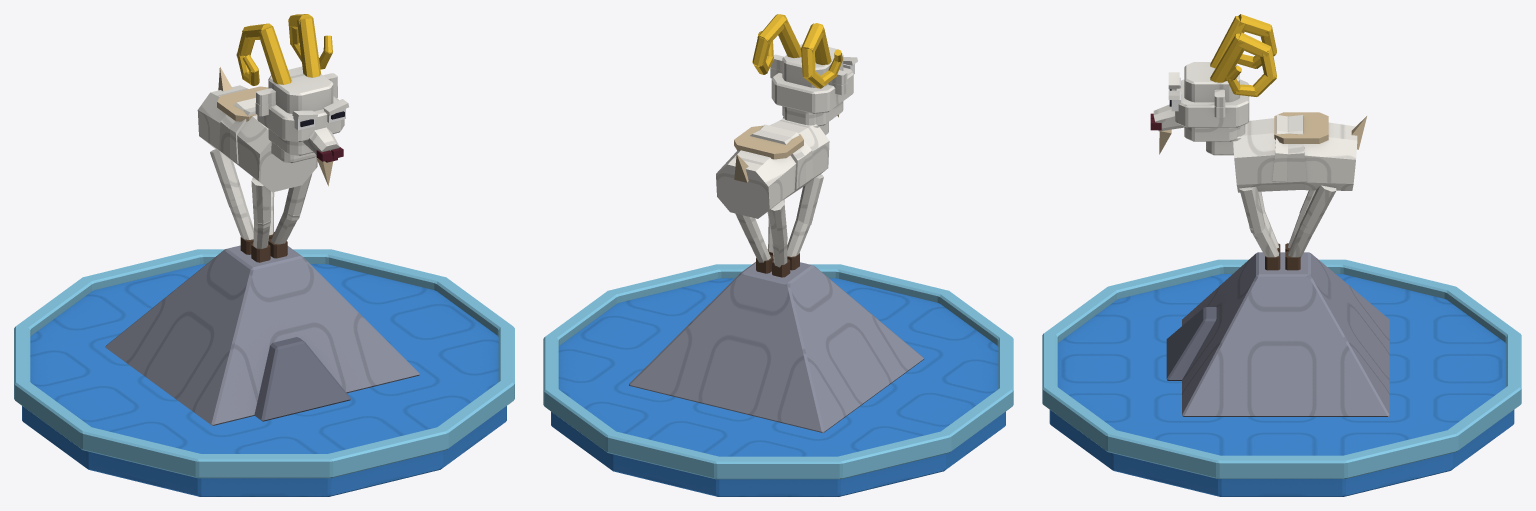
Rendered from GoldHornKid.fbx.
3 renders of one model, left to right at view 1: azimuth 30°, elevation 25°; view 2: azimuth 150°, elevation 25°; view 3: azimuth 270°, elevation 25°, orthographic. The views are drawn at different scales.
Parts seen in each view (by area): view 1: Art_GoldHornKid_Stand, Art_GoldHornKid_Rock, Art_GoldHornKid_Body, Art_GoldHornKid_Head; view 2: Art_GoldHornKid_Stand, Art_GoldHornKid_Rock, Art_GoldHornKid_Body, Art_GoldHornKid_Head; view 3: Art_GoldHornKid_Stand, Art_GoldHornKid_Rock, Art_GoldHornKid_Body, Art_GoldHornKid_Head.
Part boxes in pixels (x1,y1,x2,y2): Art_GoldHornKid_Stand: [14, 249, 514, 496]; Art_GoldHornKid_Rock: [105, 245, 419, 425]; Art_GoldHornKid_Body: [197, 85, 317, 262]; Art_GoldHornKid_Head: [236, 14, 348, 186]; Art_GoldHornKid_Stand: [543, 264, 1013, 496]; Art_GoldHornKid_Rock: [629, 262, 923, 432]; Art_GoldHornKid_Body: [716, 118, 829, 277]; Art_GoldHornKid_Head: [752, 14, 857, 134]; Art_GoldHornKid_Stand: [1042, 259, 1521, 496]; Art_GoldHornKid_Rock: [1166, 252, 1389, 416]; Art_GoldHornKid_Body: [1233, 112, 1357, 270]; Art_GoldHornKid_Head: [1150, 14, 1276, 155].
Size of the model in its own units: 3.09 by 2.67 by 3.09.
